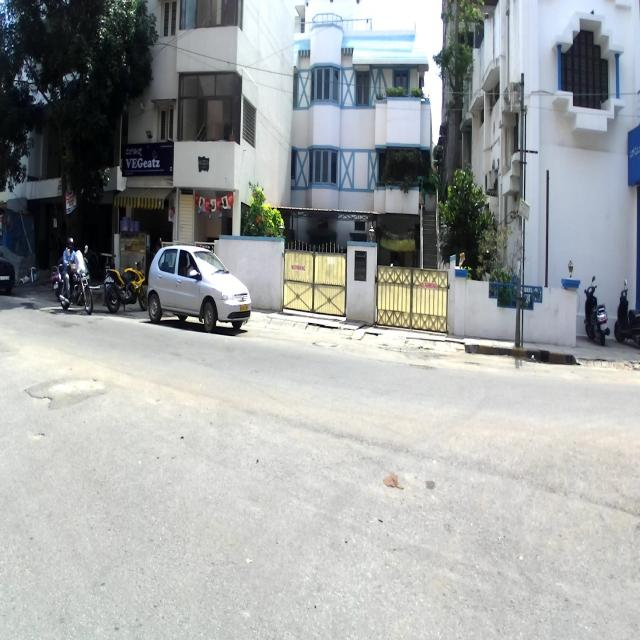Car_TATA: (146, 243, 252, 332)
motorcycle_bajaj: (56, 244, 94, 315), (102, 255, 147, 314)
scooter: (583, 276, 610, 347)
